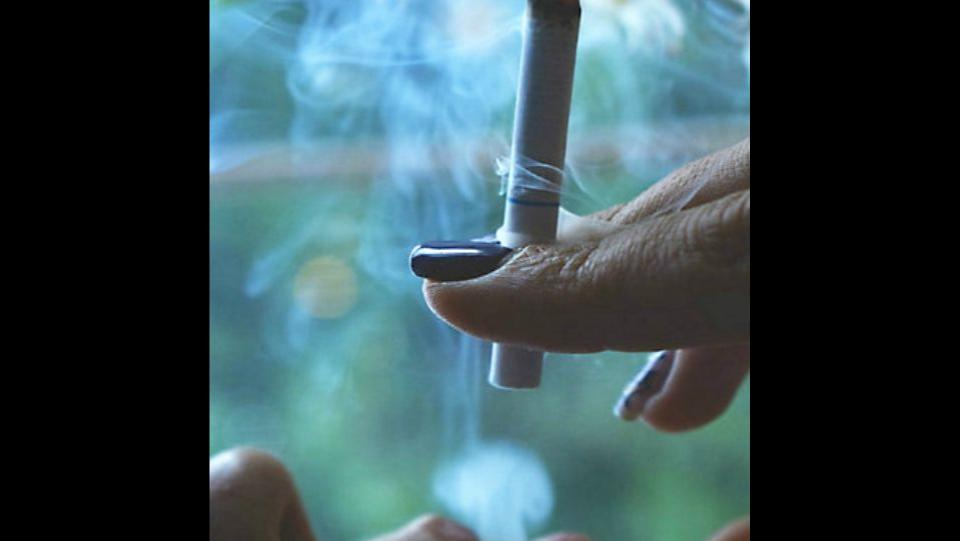Cigarette: (483, 0, 591, 387)
Smoke: (246, 0, 598, 220)
